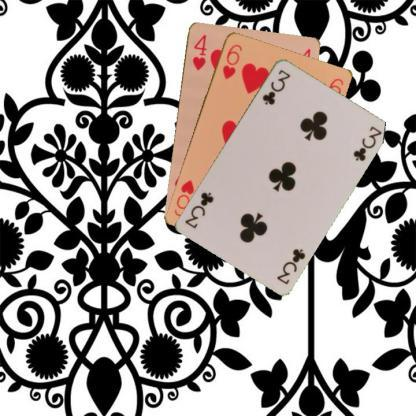3c: (259, 66, 292, 107), (274, 245, 307, 286)
4h: (190, 31, 209, 72)
6h: (220, 41, 243, 80)
